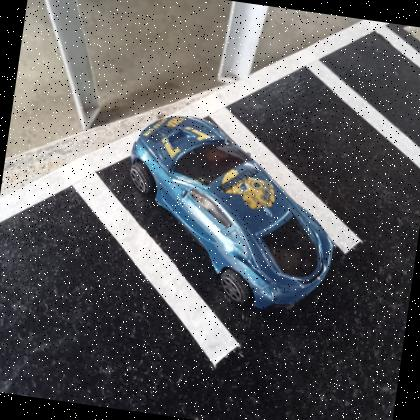Car: (131, 116, 334, 311)
